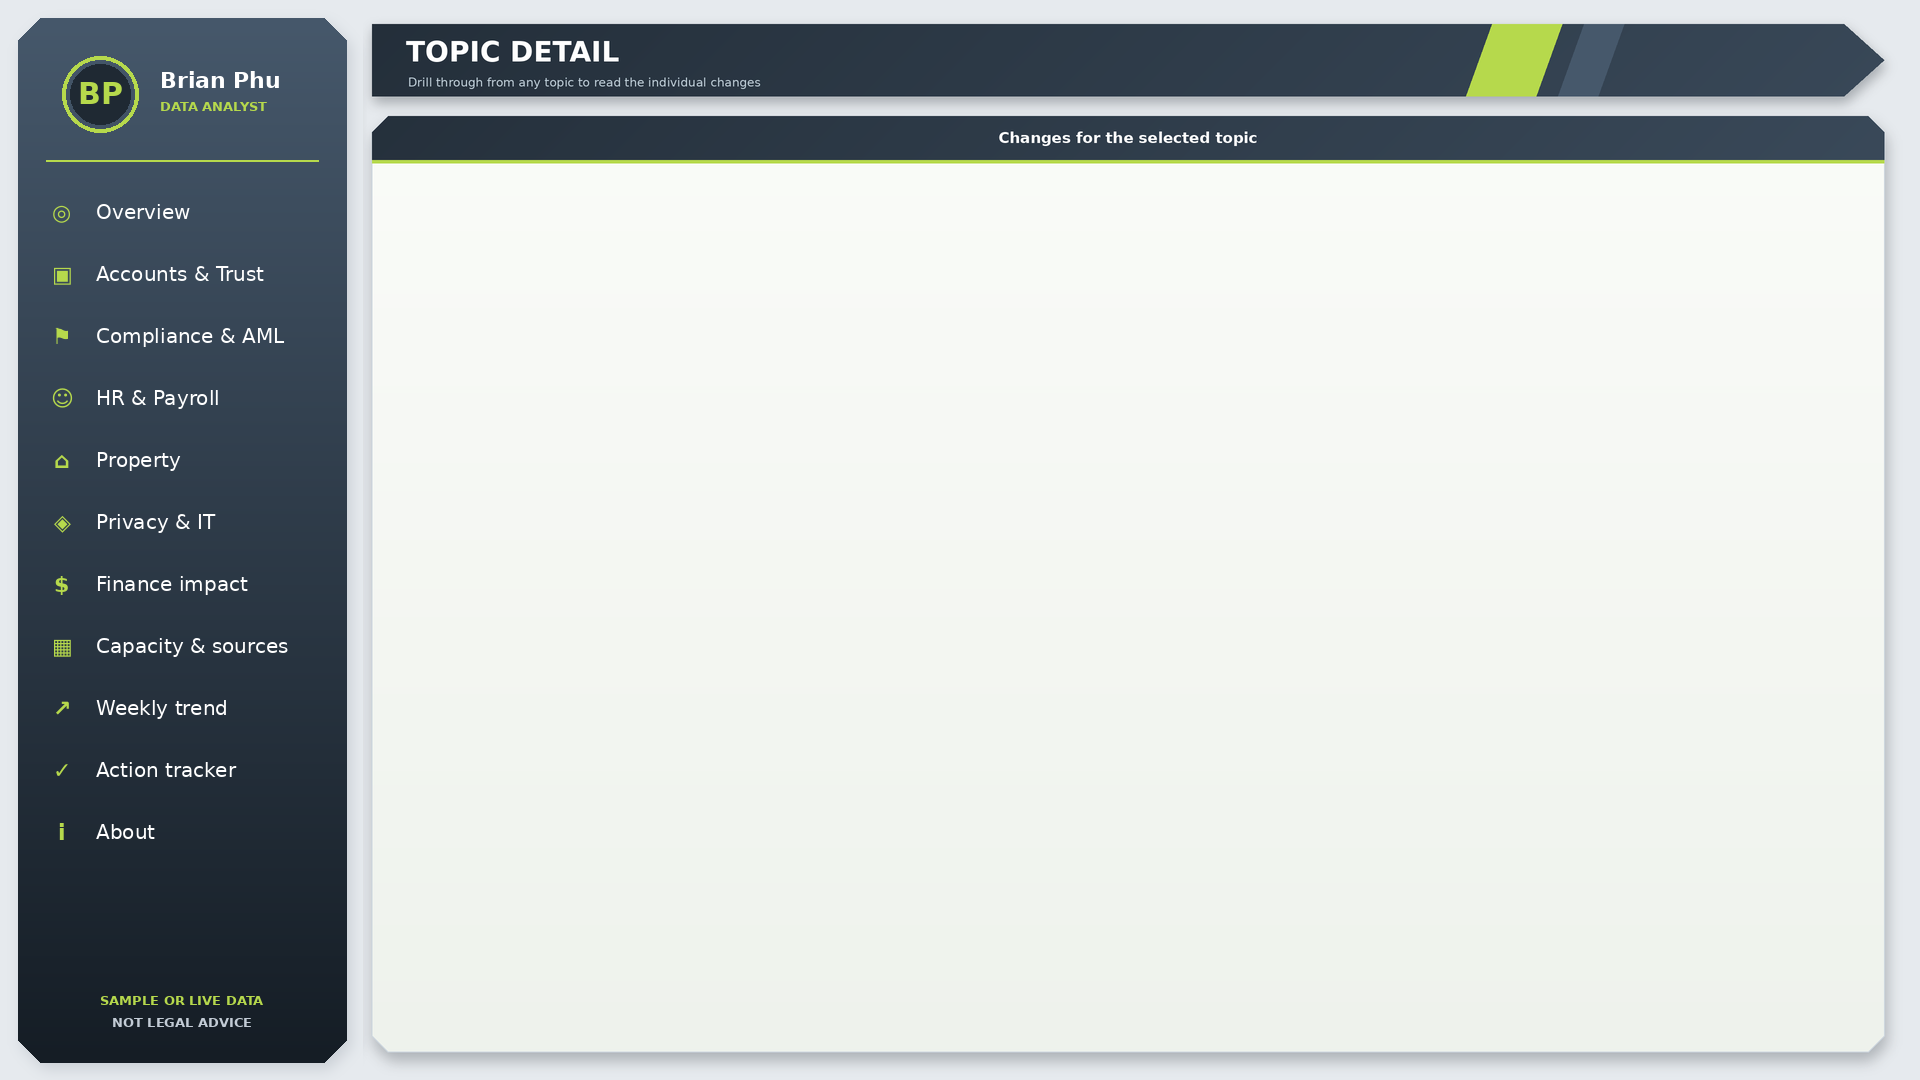

This screenshot's page, from the dashboard's own definition file:
{"tool":"powerbi","page":{"name":"Topic detail","canvas":[1920,1080],"ordinal":10},"visuals":[{"type":"tableEx","fields":{"Values":["changes.published","changes.title","changes.source","changes.impact","changes.status","changes.deadline","changes.link"]},"box":[384,168,1488,872],"z":2490},{"type":"actionButton","box":[30,905,150,44],"z":2580},{"type":"actionButton","box":[30,190,300,56],"z":9000},{"type":"actionButton","box":[30,256,300,56],"z":9001},{"type":"actionButton","box":[30,322,300,56],"z":9002},{"type":"actionButton","box":[30,388,300,56],"z":9003},{"type":"actionButton","box":[30,454,300,56],"z":9004},{"type":"actionButton","box":[30,520,300,56],"z":9005},{"type":"actionButton","box":[30,586,300,56],"z":9006},{"type":"actionButton","box":[30,652,300,56],"z":9007}]}

Visuals, with their boxes in screenshot pixels (x1, y1, x2, y2), scaled from the page's 1920x1080 canvas onto the 1920x1080 screenshot:
tableEx - changes.published x changes.title: [x1=384, y1=168, x2=1872, y2=1040]
actionButton: [x1=30, y1=905, x2=180, y2=949]
actionButton: [x1=30, y1=190, x2=330, y2=246]
actionButton: [x1=30, y1=256, x2=330, y2=312]
actionButton: [x1=30, y1=322, x2=330, y2=378]
actionButton: [x1=30, y1=388, x2=330, y2=444]
actionButton: [x1=30, y1=454, x2=330, y2=510]
actionButton: [x1=30, y1=520, x2=330, y2=576]
actionButton: [x1=30, y1=586, x2=330, y2=642]
actionButton: [x1=30, y1=652, x2=330, y2=708]
